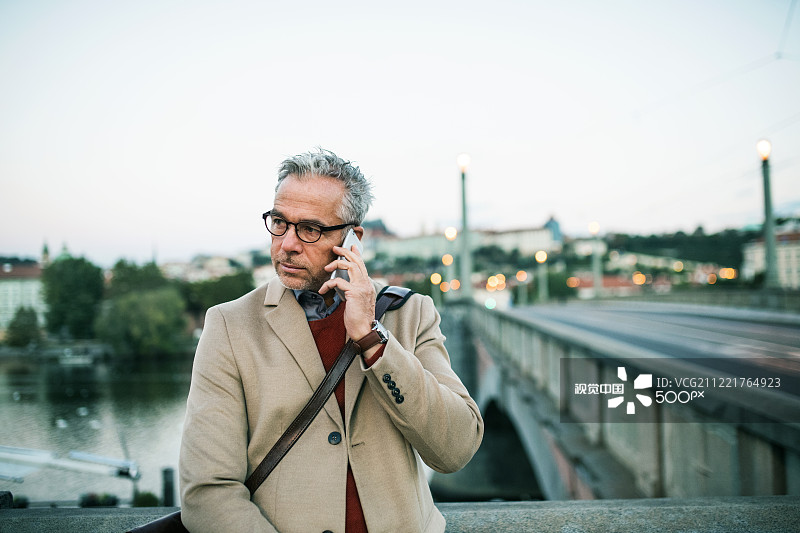calling: (311, 222, 402, 351)
